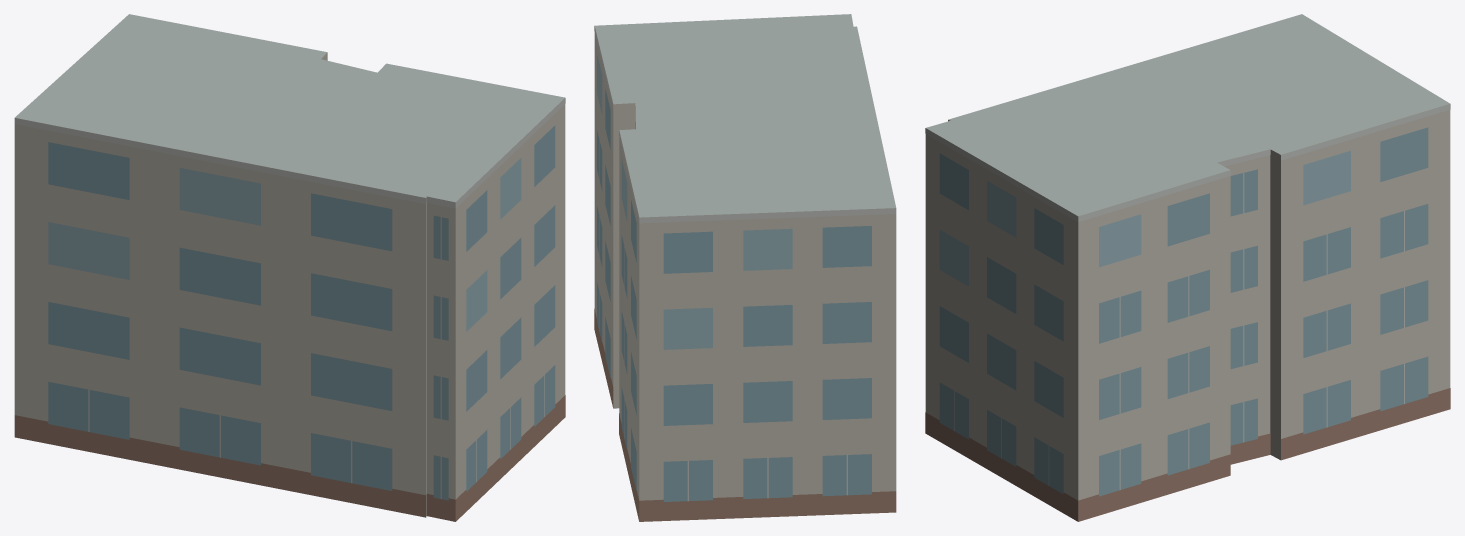
File: survey-upis-32814813.glb
3 renders of one model, left to right at view 1: azimuth 30°, elevation 25°; view 2: azimuth 150°, elevation 25°; view 3: azimuth 270°, elevation 25°, orthographic. The views are drawn at different scales.
Parts seen in each view (by area): view 1: survey-upis-32814813.tmp; view 2: survey-upis-32814813.tmp; view 3: survey-upis-32814813.tmp.
Part boxes in pixels (x1=…): survey-upis-32814813.tmp: x1=14, y1=14, x2=565, y2=521; survey-upis-32814813.tmp: x1=594, y1=14, x2=896, y2=521; survey-upis-32814813.tmp: x1=925, y1=14, x2=1450, y2=521.
Size of the model in its own units: 18.19 by 12.8 by 19.94.
